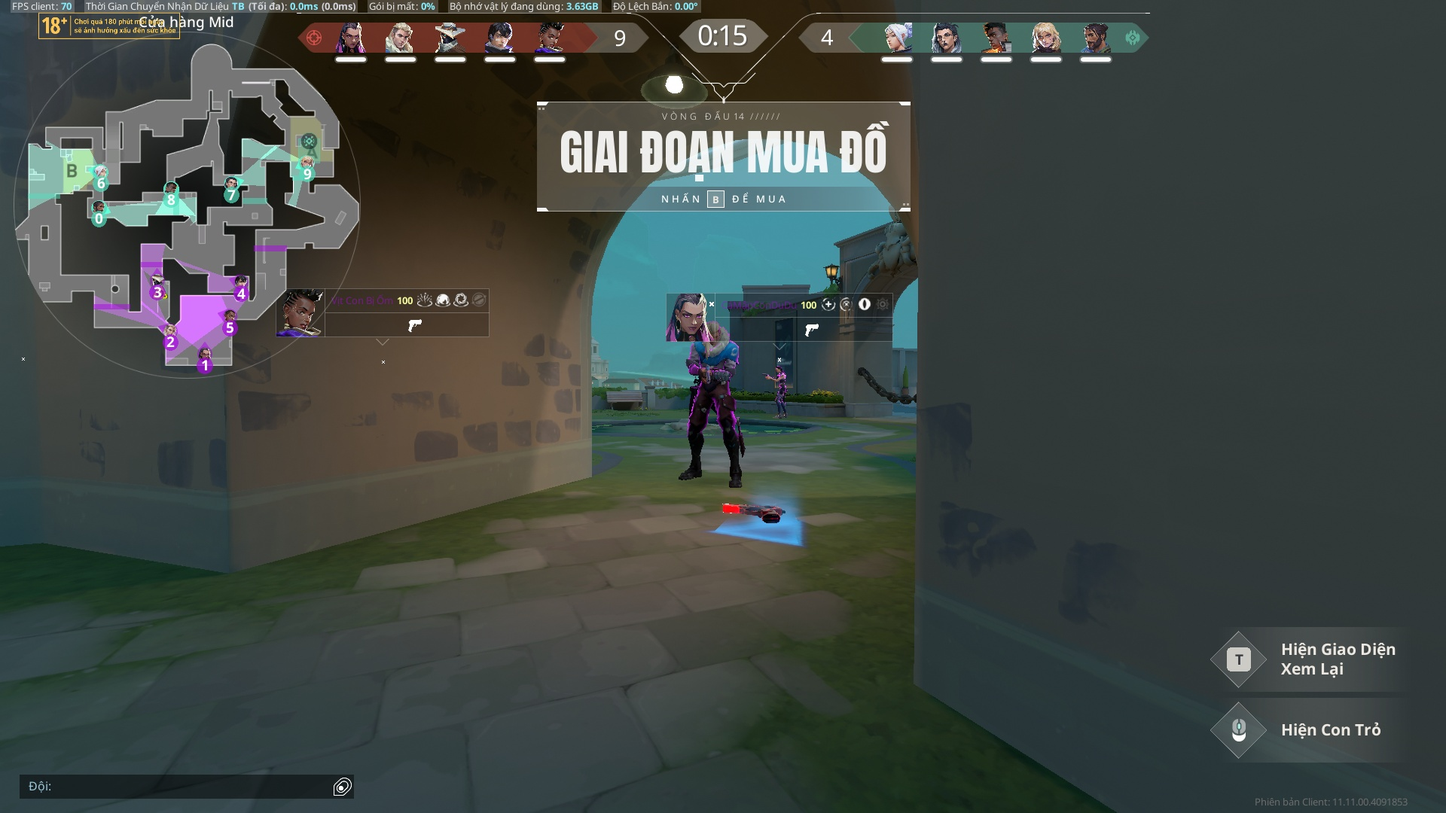body: (691, 335, 737, 386), (774, 373, 787, 390)
head: (705, 323, 725, 343), (776, 367, 782, 374)
